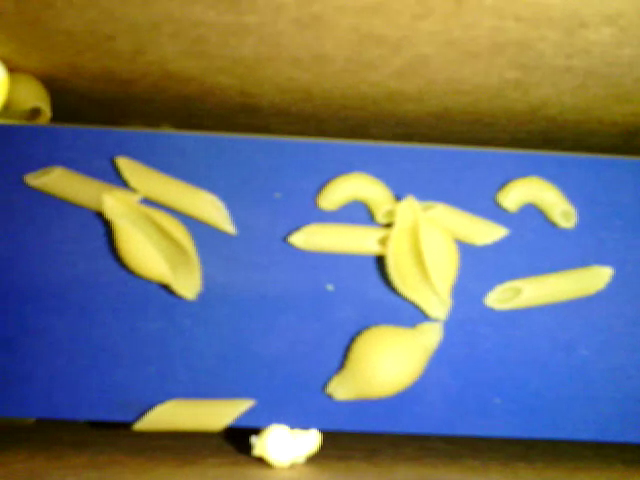elbow: (494, 174, 579, 232), (316, 170, 399, 223)
penne: (114, 151, 238, 234), (483, 263, 617, 314), (378, 200, 510, 249), (22, 165, 145, 214), (131, 399, 257, 431), (282, 222, 394, 255)
shell: (103, 190, 206, 304), (321, 322, 444, 405), (381, 192, 458, 321), (4, 70, 54, 128)
